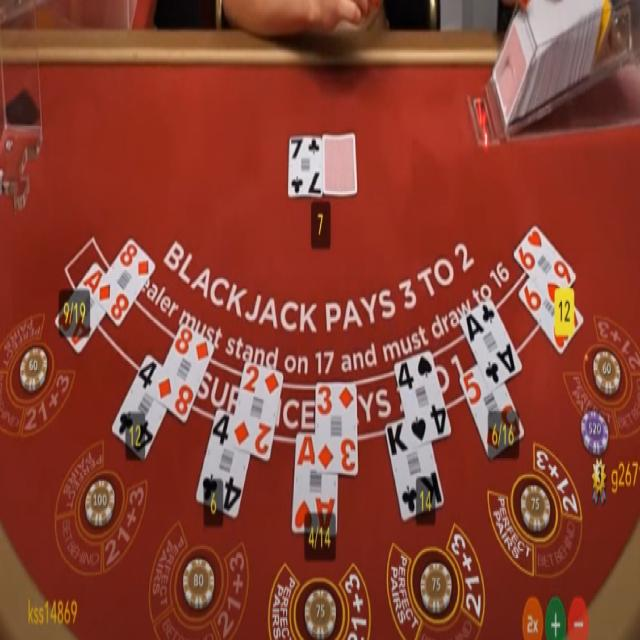Card-2: (228, 360, 283, 463)
Card-3: (315, 382, 358, 474)
Card-4: (196, 407, 250, 518), (111, 352, 166, 459), (394, 350, 451, 451)
Card-5: (459, 365, 525, 462)
Card-6: (513, 224, 576, 306), (519, 278, 583, 354)
Card-7: (288, 135, 322, 198)
Card-8: (152, 322, 215, 424), (94, 237, 155, 329)
Card-A: (460, 297, 523, 392), (54, 259, 106, 355), (293, 432, 337, 535)
Card-K: (385, 418, 444, 523)
